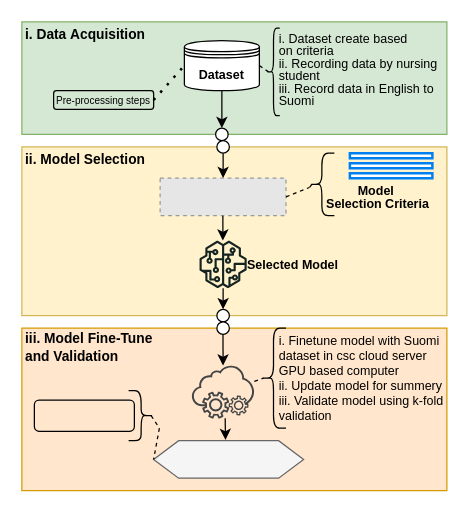
The diagram is 469 pixels wide and 513 high, and some of its shapes have lost their labels. Grey dashed boxes stand in for pictures. Here are the shapes that lost their labels. From the top down, the centre of each, then its label:
At (x=83, y=415): "BLEU, ROUGE-L, BERTScore".
At (x=228, y=458): "Performance Analysis".
